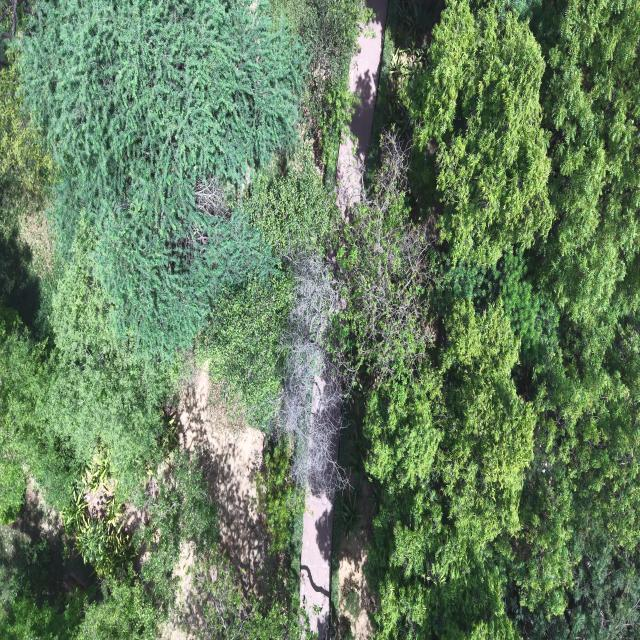DRY_AREA: (177, 370, 266, 589), (178, 370, 266, 589), (178, 371, 266, 589), (178, 370, 264, 588), (332, 393, 377, 639), (337, 0, 388, 217), (337, 0, 388, 212), (0, 478, 92, 589), (336, 481, 374, 639), (301, 488, 334, 639), (339, 529, 373, 639)
VEGETATION_TREE: (0, 0, 639, 639), (0, 0, 366, 636), (2, 1, 365, 507), (360, 1, 639, 639), (21, 1, 307, 358), (0, 33, 169, 509), (364, 297, 535, 580), (195, 143, 337, 482), (0, 452, 228, 639), (2, 260, 167, 509), (403, 2, 552, 265), (196, 143, 331, 427), (41, 259, 167, 498), (337, 132, 433, 375), (275, 250, 346, 492), (0, 306, 80, 508), (0, 40, 55, 326), (195, 272, 290, 427), (141, 450, 220, 615), (304, 0, 371, 183), (0, 569, 158, 639), (254, 437, 307, 622), (246, 148, 334, 253), (196, 558, 310, 639), (256, 441, 304, 552), (75, 513, 133, 576), (0, 436, 25, 524), (341, 486, 362, 539), (344, 588, 360, 620)
